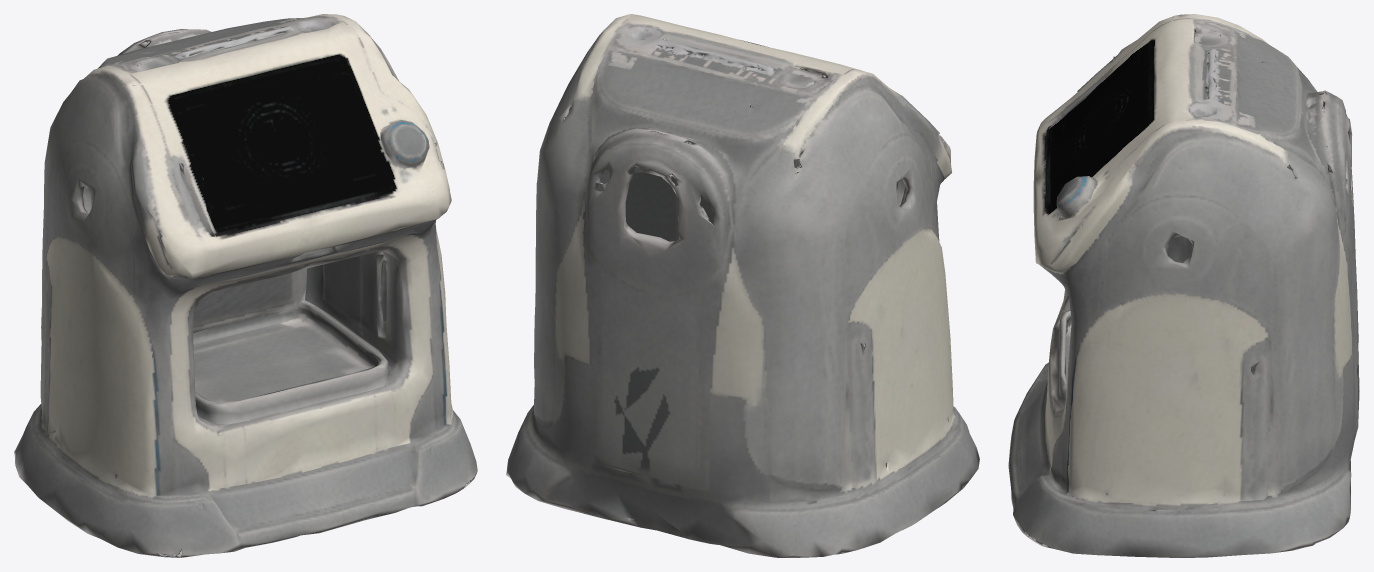
File: wish-machine-v1.glb
The picture shows the model from 3 angles, left to right: view 1: azimuth 30°, elevation 25°; view 2: azimuth 150°, elevation 25°; view 3: azimuth 270°, elevation 25°; orthographic projection. The views are drawn at different scales.
Bounding box in the file's own units: 0.9594 × 1.01 × 0.7941.
1 material, 1 textured.
